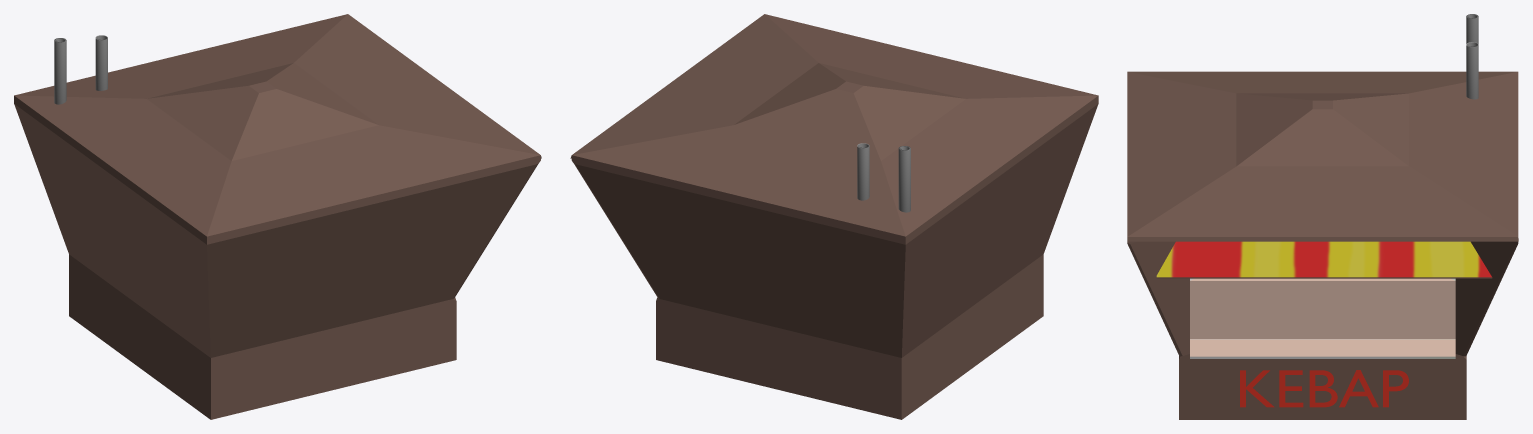
Rendered from Kebabp.fbx.
The picture shows the model from 3 angles, left to right: view 1: azimuth 30°, elevation 25°; view 2: azimuth 150°, elevation 25°; view 3: azimuth 270°, elevation 25°; orthographic projection.
Visible parts, largest first — view 1: Górny trzymak2, Rura, Rura.001; view 2: Górny trzymak2, Rura, Rura.001; view 3: Górny trzymak2, Text, Rura.001, Rura.
Part boxes in pixels (x1,y1,x2,y2): Górny trzymak2: (14,14,541,419); Rura: (54,38,66,104); Rura.001: (95,35,107,90); Górny trzymak2: (570,14,1098,419); Rura: (898,146,910,212); Rura.001: (857,143,869,200); Górny trzymak2: (1127,71,1518,419); Text: (1240,370,1408,407); Rura.001: (1466,42,1478,99); Rura: (1466,14,1478,43).
Bounding box in the file's own units: 653 × 512 × 651.
